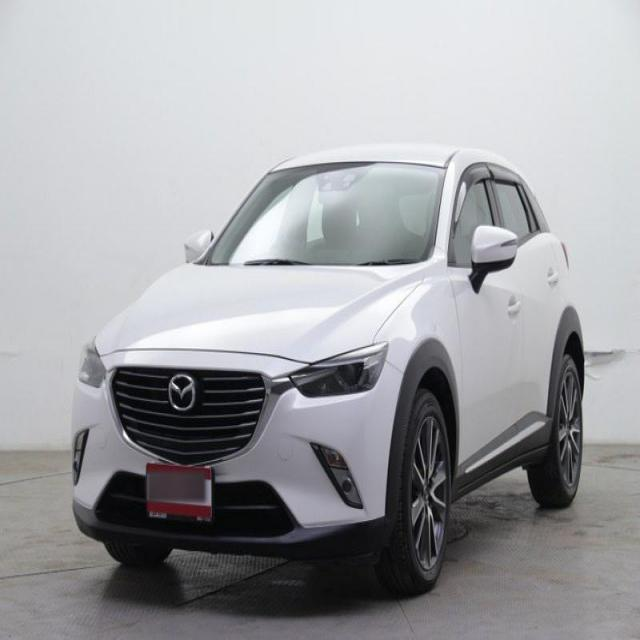back_left_door: (487, 162, 559, 421)
front_bumper: (70, 348, 419, 561)
front_glass: (197, 162, 446, 265)
front_left_door: (447, 163, 523, 464)
front_left_light: (289, 340, 388, 398)
front_right_light: (77, 336, 107, 392)
hood: (94, 261, 423, 365)
left_mirror: (471, 226, 518, 292)
right_mirror: (180, 228, 214, 261)
wheel: (376, 356, 586, 597)
